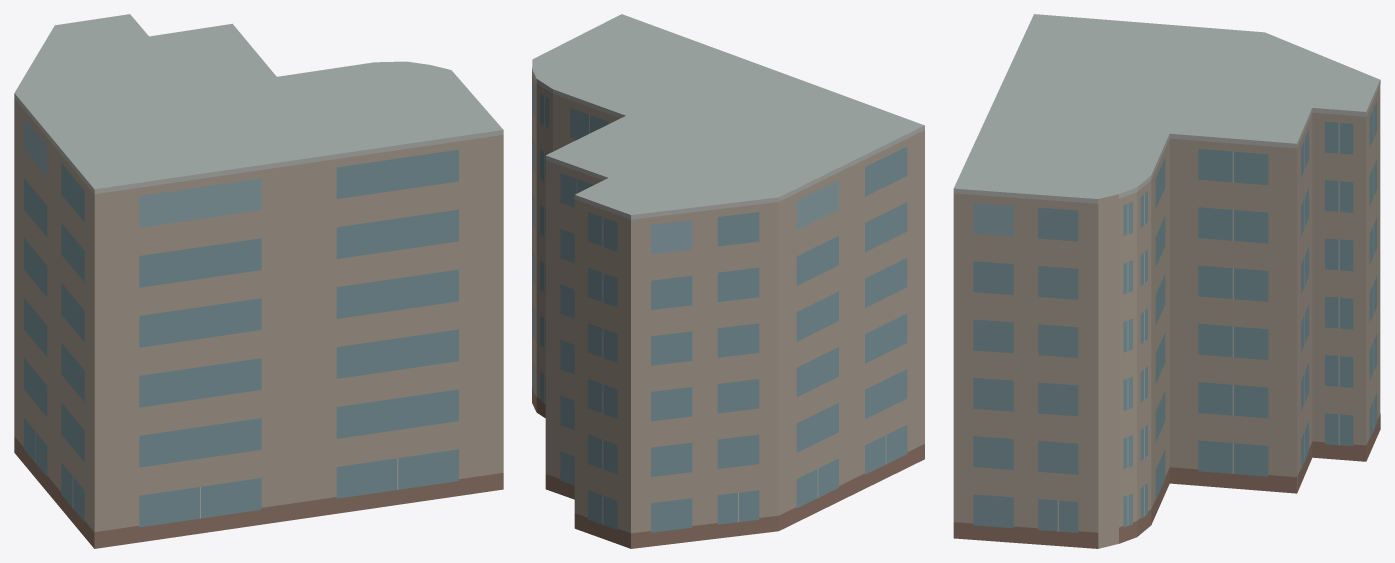
The model's file is survey-upis-33031825.glb.
3 renders of one model, left to right at view 1: azimuth 30°, elevation 25°; view 2: azimuth 150°, elevation 25°; view 3: azimuth 270°, elevation 25°, orthographic. The views are drawn at different scales.
Visible parts, largest first — view 1: survey-upis-33031825.tmp; view 2: survey-upis-33031825.tmp; view 3: survey-upis-33031825.tmp.
Part boxes in pixels (box(x1,y1,x2,y2)): survey-upis-33031825.tmp: box(14, 14, 503, 548); survey-upis-33031825.tmp: box(532, 14, 924, 548); survey-upis-33031825.tmp: box(953, 14, 1380, 548).
Size of the model in its own units: 20.27 by 17.85 by 19.75.
